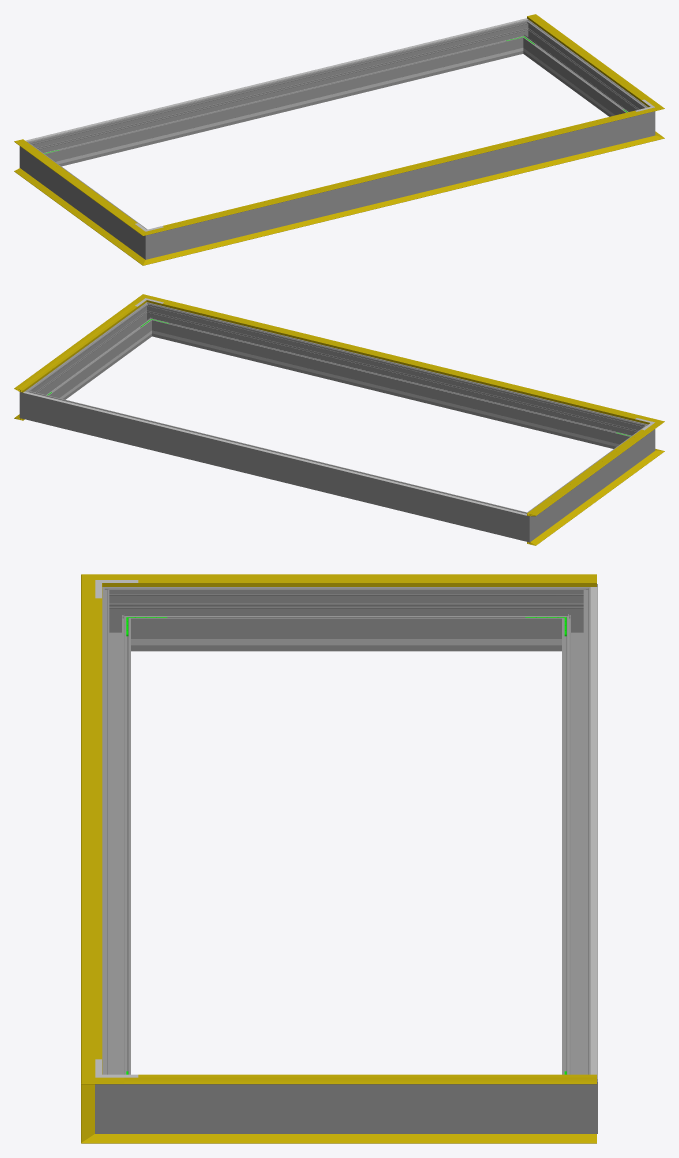
3 renders of one model, top to bottom at view 1: azimuth 30°, elevation 25°; view 2: azimuth 150°, elevation 25°; view 3: azimuth 270°, elevation 25°, orthographic. The views are drawn at different scales.
Visible parts, largest first — view 1: 3DGeom-278, 3DGeom-300, 3DGeom-299, 3DGeom-28, 3DGeom-270, 3DGeom-141, 3DGeom-246, 3DGeom-222, 3DGeom-158, 3DGeom-145, 3DGeom-38, 3DGeom-147 (+6 smaller); view 2: 3DGeom-300, 3DGeom-278, 3DGeom-299, 3DGeom-141, 3DGeom-270, 3DGeom-241, 3DGeom-222, 3DGeom-145, 3DGeom-158, 3DGeom-38, 3DGeom-147, 3DGeom-280 (+5 smaller); view 3: 3DGeom-270, 3DGeom-299, 3DGeom-278, 3DGeom-300, 3DGeom-141, 3DGeom-30, 3DGeom-147, 3DGeom-222, 3DGeom-145, 3DGeom-158, 3DGeom-234, 3DGeom-286 (+5 smaller).
Boxes of the visible parts, bbox=[...] form: 3DGeom-278: bbox=[40, 23, 519, 166]; 3DGeom-300: bbox=[164, 115, 636, 255]; 3DGeom-299: bbox=[525, 26, 641, 116]; 3DGeom-28: bbox=[158, 138, 645, 260]; 3DGeom-270: bbox=[30, 148, 140, 251]; 3DGeom-141: bbox=[158, 110, 645, 231]; 3DGeom-246: bbox=[62, 52, 505, 163]; 3DGeom-222: bbox=[25, 18, 527, 141]; 3DGeom-158: bbox=[163, 110, 636, 226]; 3DGeom-145: bbox=[527, 14, 653, 104]; 3DGeom-38: bbox=[14, 168, 137, 257]; 3DGeom-147: bbox=[14, 140, 137, 227]; 3DGeom-300: bbox=[155, 306, 634, 448]; 3DGeom-278: bbox=[38, 394, 514, 537]; 3DGeom-299: bbox=[33, 309, 150, 399]; 3DGeom-141: bbox=[156, 298, 645, 422]; 3DGeom-270: bbox=[535, 431, 644, 533]; 3DGeom-241: bbox=[170, 334, 612, 445]; 3DGeom-222: bbox=[23, 391, 526, 515]; 3DGeom-145: bbox=[14, 302, 141, 392]; 3DGeom-158: bbox=[163, 302, 635, 418]; 3DGeom-38: bbox=[527, 456, 653, 545]; 3DGeom-147: bbox=[527, 428, 653, 516]; 3DGeom-280: bbox=[511, 507, 540, 542]; 3DGeom-270: bbox=[138, 587, 554, 651]; 3DGeom-299: bbox=[138, 1084, 554, 1133]; 3DGeom-278: bbox=[562, 602, 597, 1074]; 3DGeom-300: bbox=[102, 602, 130, 1074]; 3DGeom-141: bbox=[81, 592, 102, 1065]; 3DGeom-30: bbox=[124, 1134, 596, 1143]; 3DGeom-147: bbox=[124, 574, 596, 586]; 3DGeom-222: bbox=[590, 587, 597, 1079]; 3DGeom-145: bbox=[124, 1077, 596, 1084]; 3DGeom-158: bbox=[95, 598, 101, 1059]; 3DGeom-234: bbox=[172, 639, 520, 645]; 3DGeom-286: bbox=[554, 1063, 597, 1133].
Bounding box in the file's own units: 4.27 × 0.2357 × 1.83.
